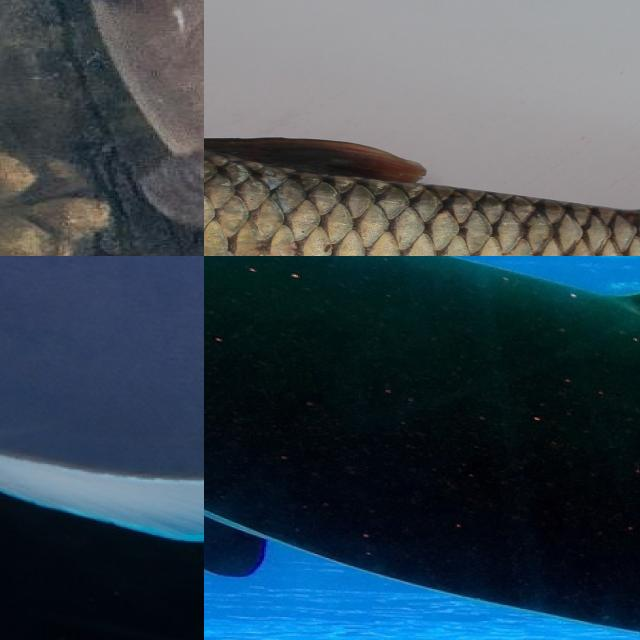fish: (204, 256, 640, 640), (204, 46, 640, 256), (0, 256, 204, 640), (0, 0, 204, 256)
